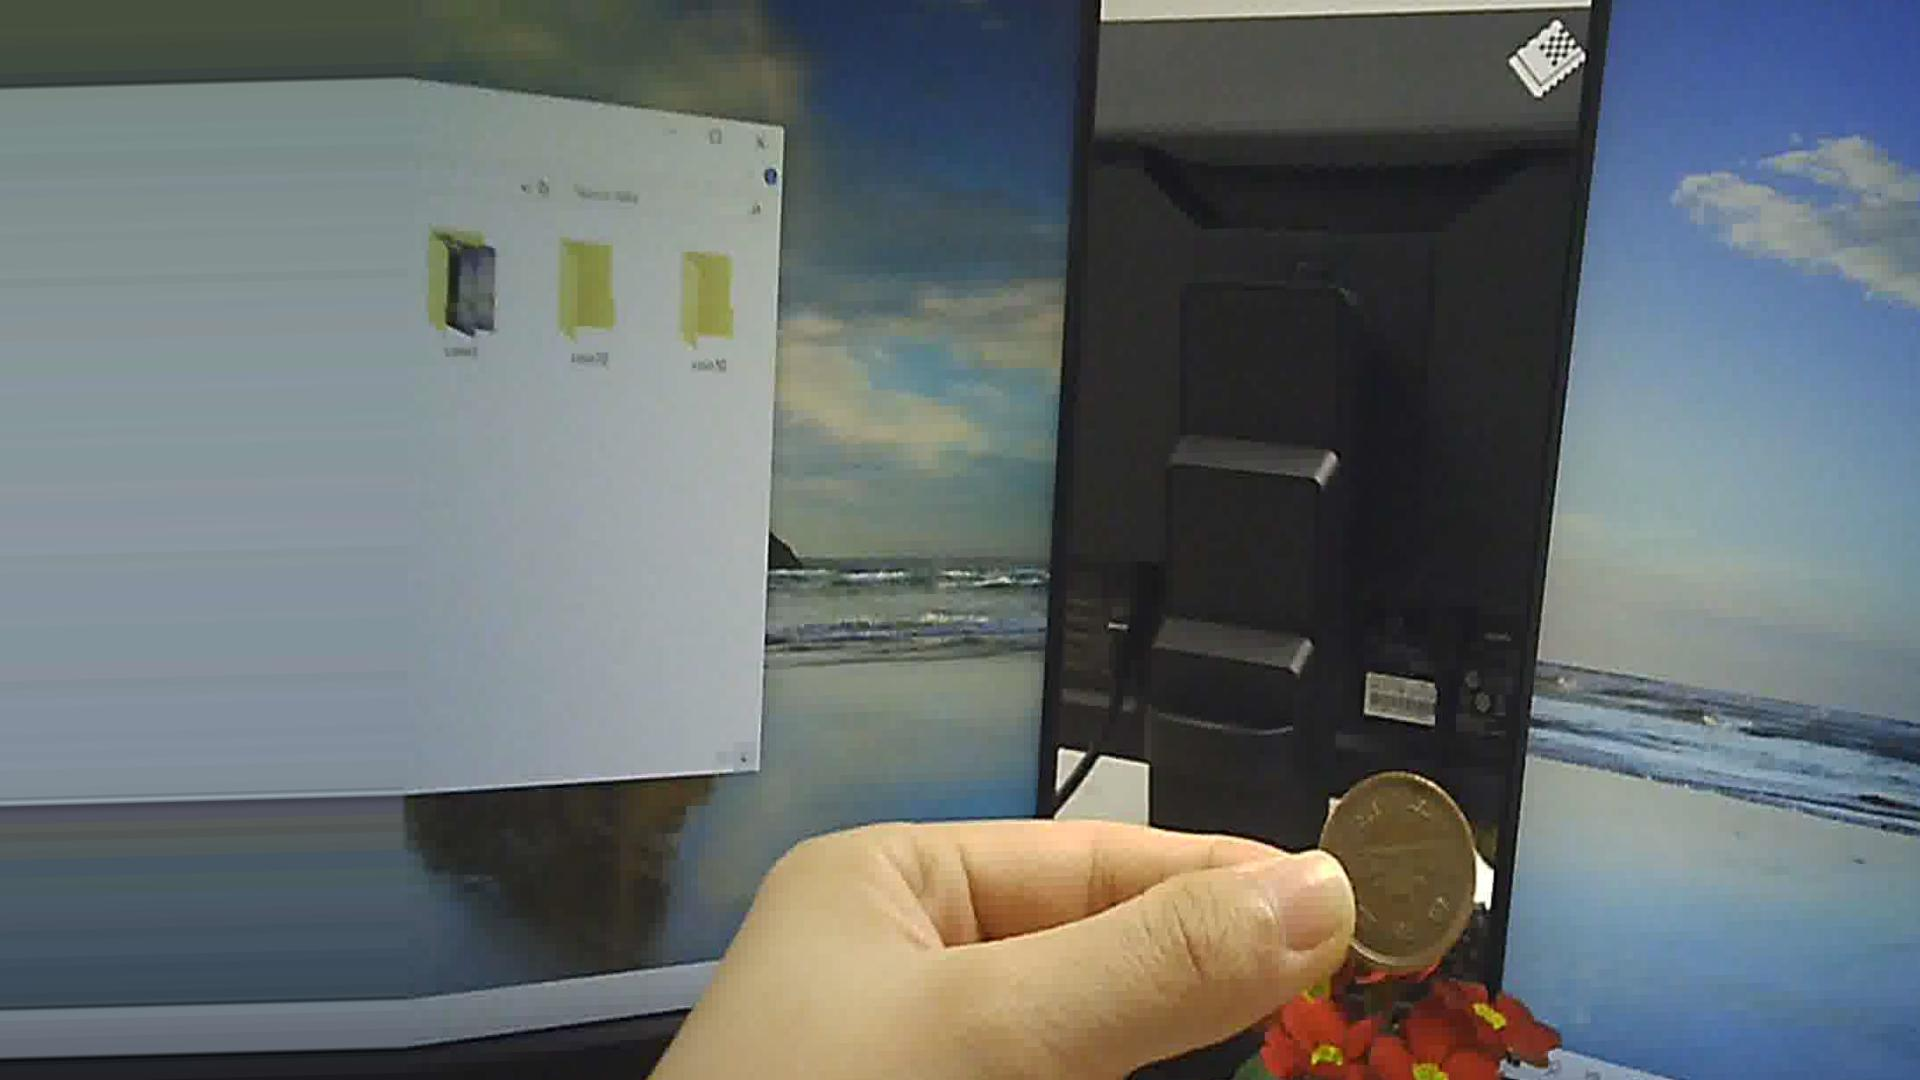10 Yen: (1308, 765, 1476, 973)
